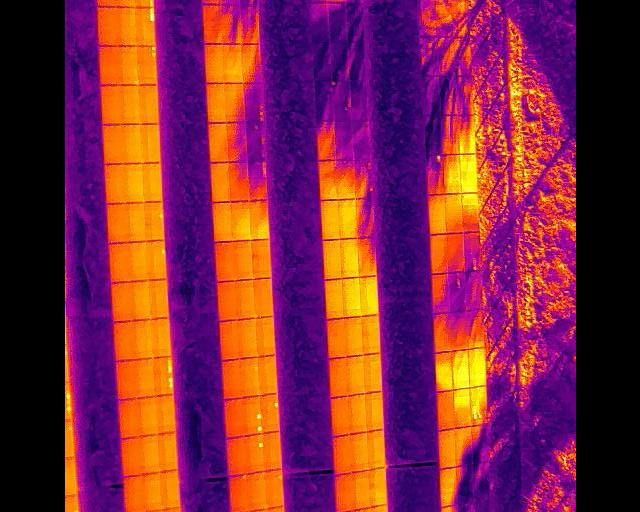Cell: (143, 202, 162, 241), (145, 242, 164, 281), (228, 474, 247, 512), (265, 470, 283, 508), (262, 394, 279, 433), (247, 435, 264, 474), (241, 358, 258, 397), (65, 496, 78, 512)
Cell-Multi: (154, 357, 172, 396), (245, 396, 262, 435), (138, 47, 155, 85), (470, 387, 485, 426)
No-Anomaly: (215, 281, 238, 321), (321, 240, 342, 280), (115, 360, 136, 400), (219, 319, 239, 360), (206, 122, 227, 161), (116, 46, 137, 85), (250, 239, 270, 279), (229, 201, 249, 241), (232, 240, 252, 280), (103, 164, 123, 204), (117, 399, 137, 439), (105, 203, 125, 243), (223, 398, 244, 436), (324, 279, 344, 318), (248, 201, 268, 240), (205, 83, 225, 122), (334, 473, 354, 512), (331, 436, 351, 475), (101, 125, 121, 164), (210, 161, 229, 202), (110, 282, 129, 323), (226, 436, 246, 474), (221, 44, 240, 84), (203, 43, 222, 83), (212, 202, 231, 242), (97, 7, 116, 47), (100, 85, 119, 125), (438, 467, 458, 505), (141, 163, 160, 203), (146, 280, 165, 320), (148, 318, 167, 358), (138, 85, 157, 125), (108, 243, 127, 283), (111, 322, 130, 362), (135, 359, 154, 399), (127, 242, 146, 282), (118, 85, 137, 125), (326, 319, 345, 358), (252, 279, 271, 318), (254, 317, 273, 356), (328, 358, 347, 397), (358, 276, 377, 315), (361, 315, 380, 354), (116, 7, 135, 46), (123, 163, 141, 204), (236, 279, 254, 319), (222, 359, 240, 399), (214, 242, 232, 282), (342, 277, 360, 317), (428, 194, 446, 234), (138, 434, 156, 474), (121, 124, 139, 164), (320, 200, 338, 239), (157, 433, 175, 472), (159, 472, 177, 511), (155, 396, 173, 435), (330, 396, 348, 435), (450, 350, 468, 389), (98, 47, 116, 86), (365, 392, 383, 431), (363, 353, 381, 392), (347, 395, 365, 434), (138, 125, 156, 164), (452, 390, 470, 428), (436, 391, 454, 429), (366, 430, 384, 468), (368, 468, 386, 506), (263, 431, 280, 471), (247, 472, 264, 512), (239, 318, 256, 358), (341, 238, 358, 278), (339, 199, 356, 239), (430, 234, 447, 274), (142, 472, 159, 512), (138, 397, 155, 437), (130, 281, 147, 321), (131, 320, 148, 360), (121, 437, 138, 477), (123, 475, 141, 512), (468, 348, 485, 387), (435, 352, 452, 391), (258, 357, 275, 395), (347, 356, 364, 394), (345, 318, 362, 356), (437, 430, 454, 468), (349, 434, 366, 472), (127, 203, 143, 243), (460, 154, 476, 193), (443, 155, 459, 194), (447, 193, 462, 234), (353, 471, 369, 509), (114, 0, 132, 8)
Shadowing: (447, 0, 470, 39), (315, 161, 337, 200), (246, 121, 268, 160), (308, 3, 329, 43), (334, 121, 355, 161), (347, 3, 367, 44), (243, 83, 264, 122), (247, 160, 267, 200), (201, 4, 221, 44), (327, 3, 347, 43), (424, 155, 444, 195), (333, 81, 353, 120), (315, 120, 334, 161), (228, 161, 247, 201), (240, 44, 259, 84), (431, 0, 450, 40), (357, 238, 377, 276), (348, 43, 368, 81), (227, 122, 246, 161), (240, 5, 259, 44), (454, 428, 473, 467), (455, 466, 474, 505), (430, 274, 449, 313), (356, 199, 375, 238), (448, 272, 466, 312), (467, 271, 485, 311), (353, 82, 371, 122), (354, 121, 372, 161), (222, 5, 240, 44), (337, 161, 355, 200), (439, 76, 457, 115), (432, 312, 450, 351), (356, 160, 374, 199), (314, 82, 332, 120), (313, 43, 331, 81), (225, 84, 243, 122), (330, 43, 348, 81), (467, 310, 485, 348), (446, 233, 463, 273), (450, 311, 467, 350), (461, 192, 477, 232), (463, 232, 479, 272), (458, 74, 474, 114), (458, 114, 474, 154), (443, 114, 459, 154), (425, 115, 441, 155), (423, 75, 439, 115), (473, 425, 487, 466), (475, 465, 488, 496), (474, 497, 492, 512), (458, 503, 475, 512)
Unclassified: (134, 8, 153, 47)
